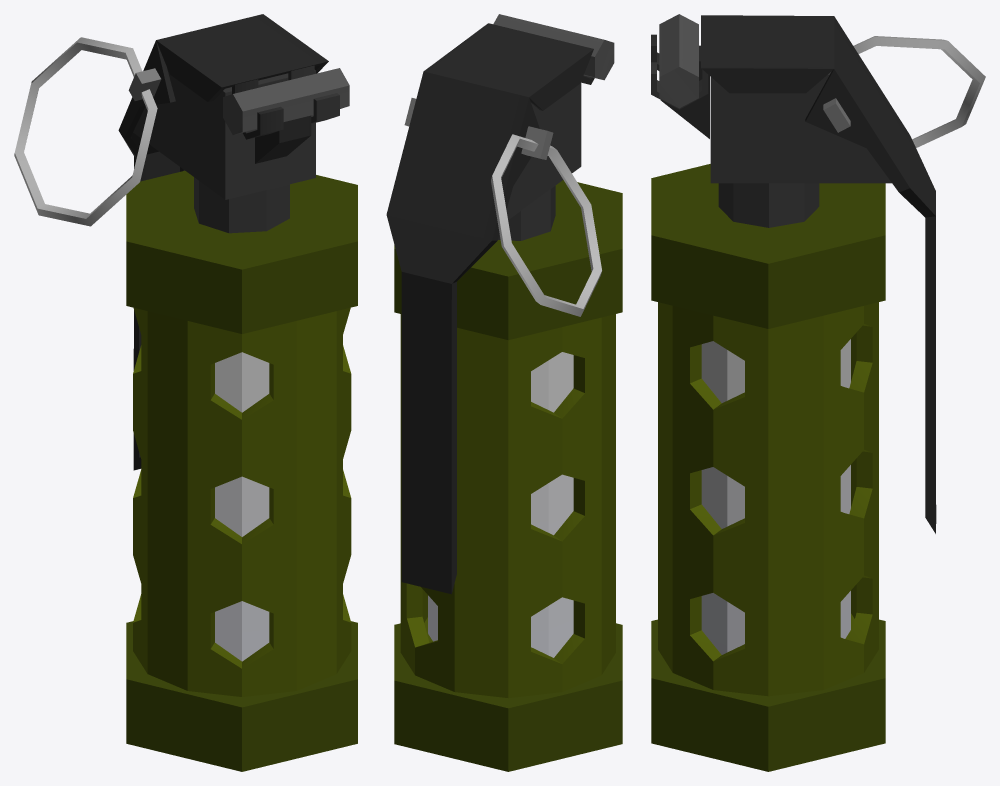
Rendered from Stun1.FBX.
3 renders of one model, left to right at view 1: azimuth 30°, elevation 25°; view 2: azimuth 150°, elevation 25°; view 3: azimuth 270°, elevation 25°, orthographic. The views are drawn at different scales.
Parts seen in each view (by area): view 1: Cylinder009, Sphere006, Object007, Object023; view 2: Cylinder009, Sphere006, Object007, Object023; view 3: Cylinder009, Sphere006, Object007.
Part boxes in pixels (x1,y1,x2,y2): Cylinder009: (126, 170, 357, 771); Sphere006: (118, 14, 349, 470); Object007: (14, 37, 157, 226); Object023: (128, 68, 161, 100); Cylinder009: (394, 180, 622, 771); Sphere006: (386, 14, 614, 594); Object007: (491, 134, 601, 316); Object023: (404, 98, 553, 159); Cylinder009: (651, 164, 885, 771); Sphere006: (651, 14, 936, 533); Object007: (853, 36, 985, 147).
Bounding box in the file's own units: 0.1328 × 0.3304 × 0.1487.
